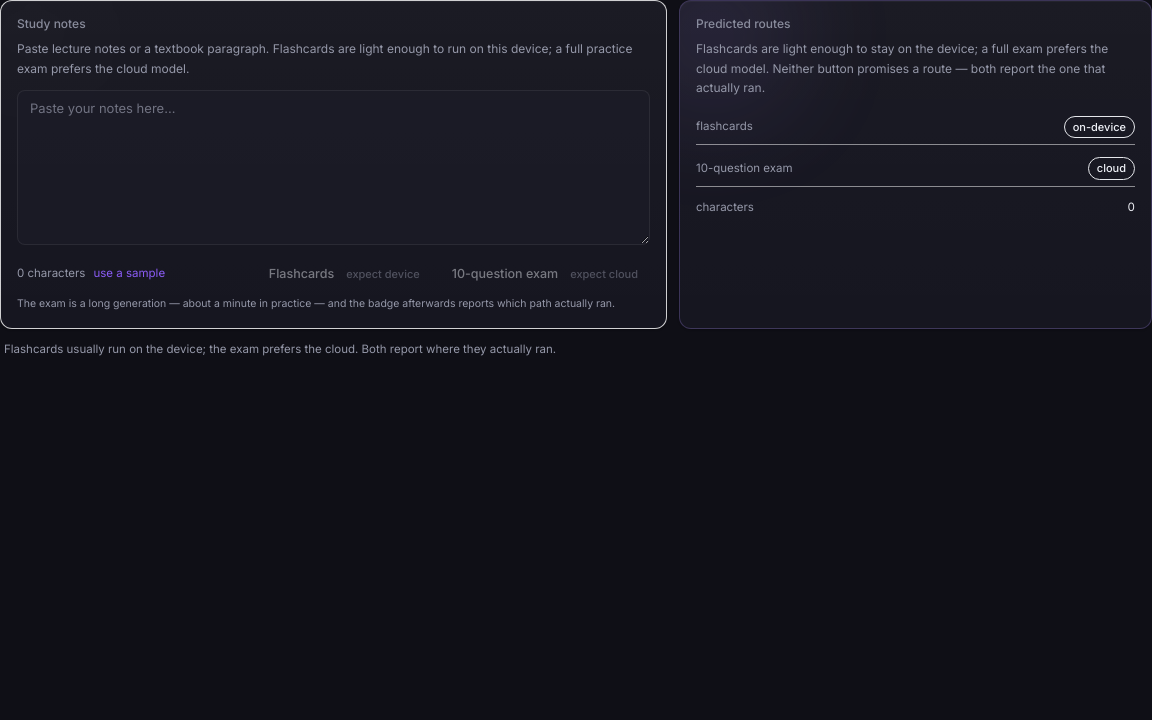
Test case: QuizPage › renders an exam split into its markdown sections
Type "notes" into the text box named "Study notes" at point(334, 167), box [17,90,650,244]
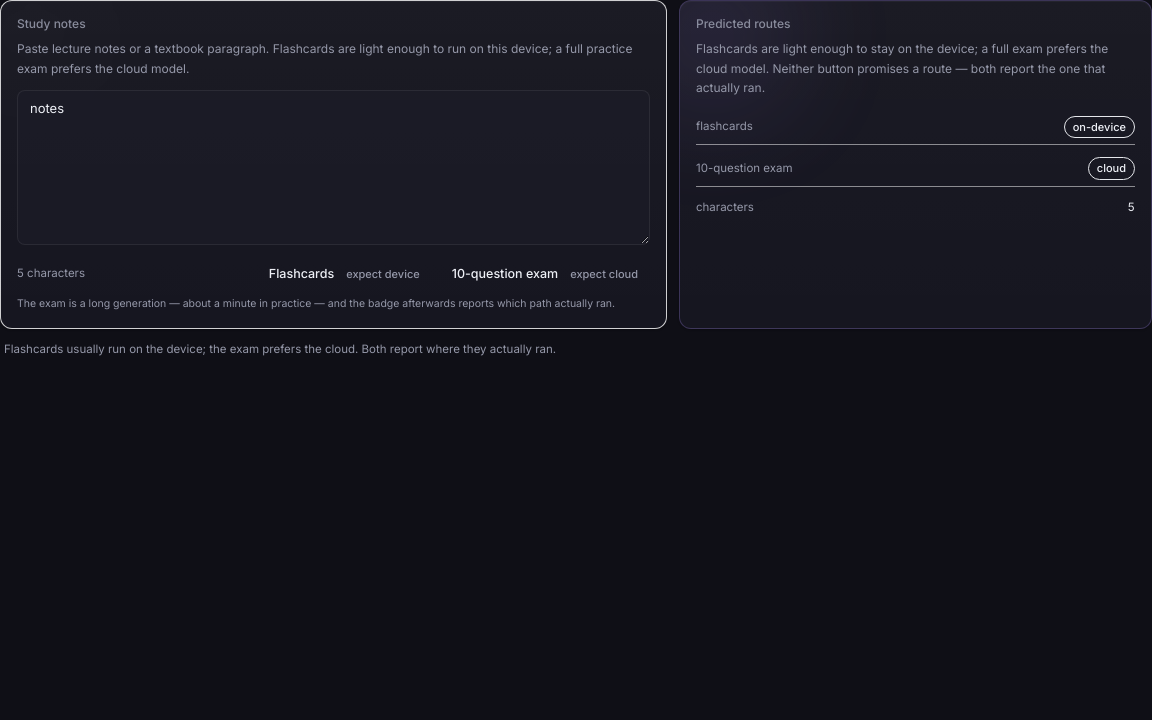
Click the button "10-question exam expect cloud" at point(545, 274), box [440,258,650,289]
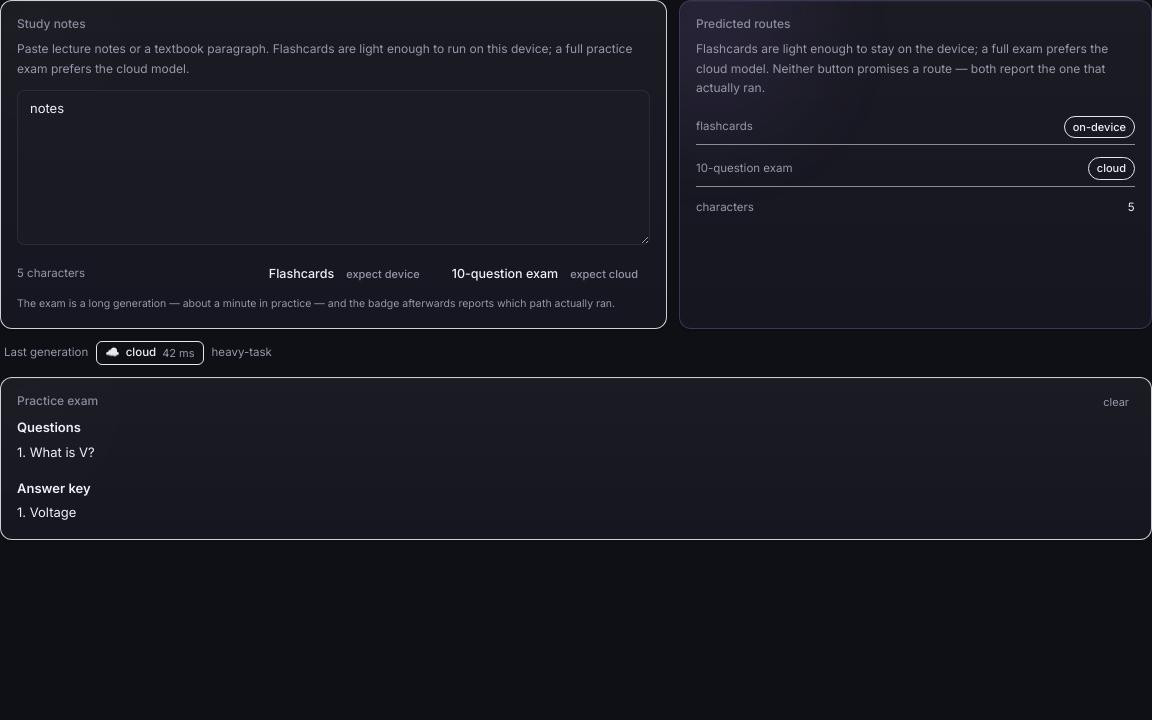
Expected: the heading "Practice exam" is shown, [17,392,98,410]
Expected: the heading "Questions" is shown, [17,419,81,435]
Expected: the heading "Answer key" is shown, [17,480,91,496]
